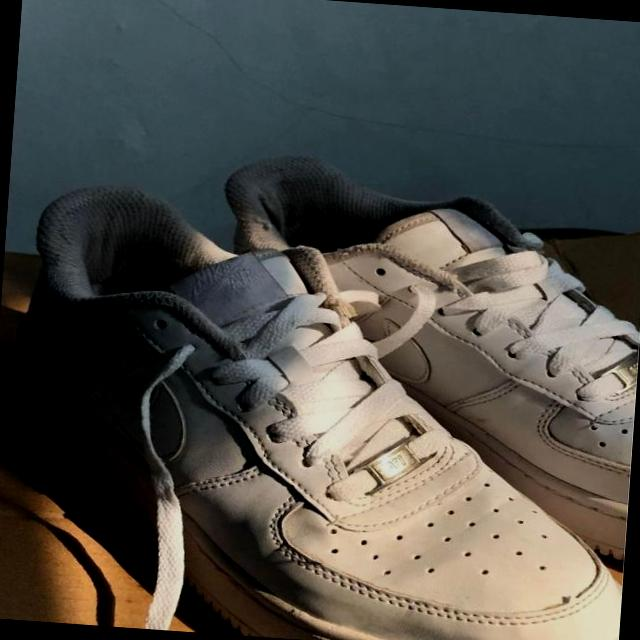nike_fake_airforce: (1, 219, 640, 640), (188, 174, 640, 573)
